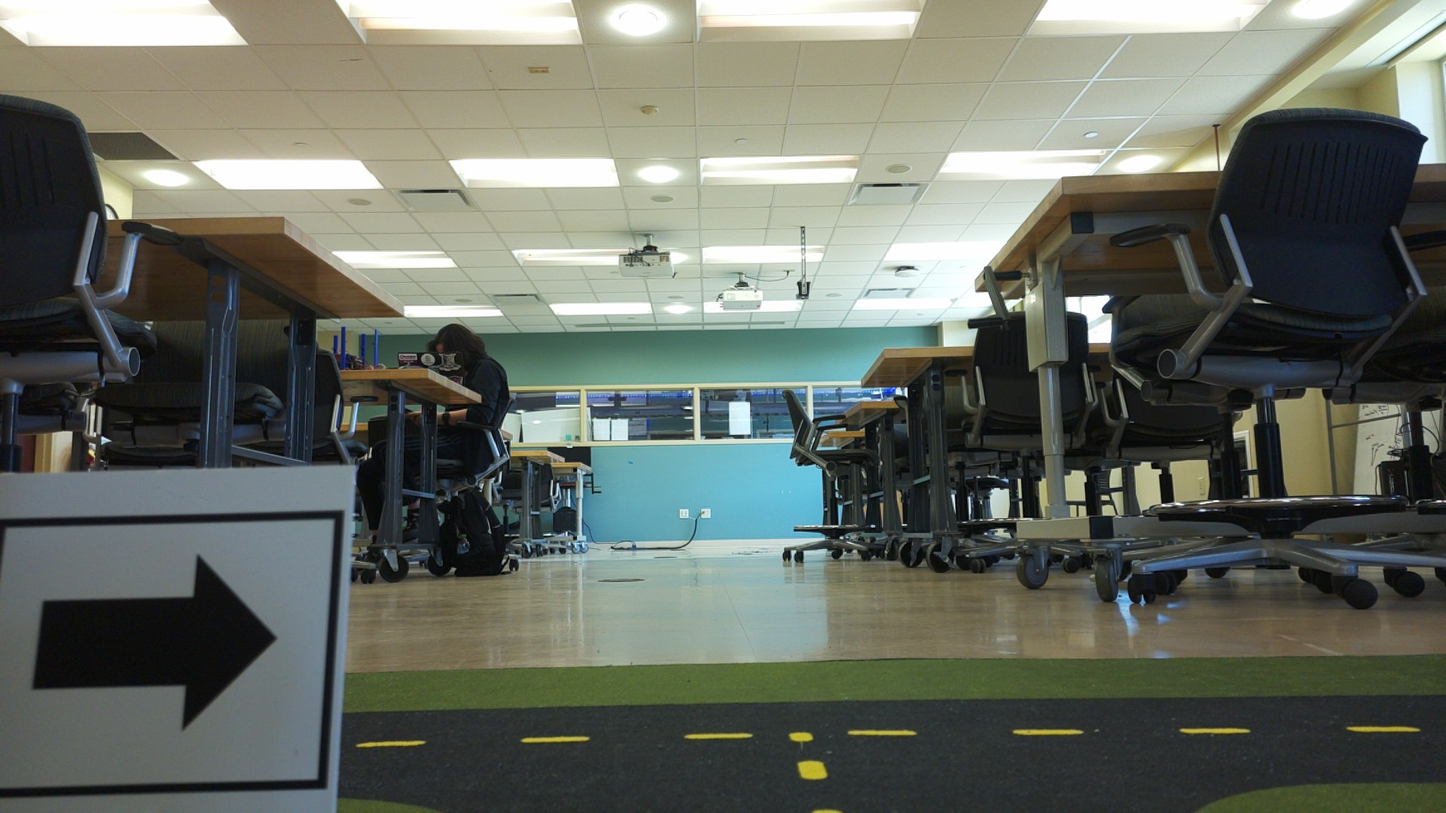turnright: (2, 525, 333, 790)
yellowline: (357, 714, 1430, 751), (789, 731, 831, 786)
